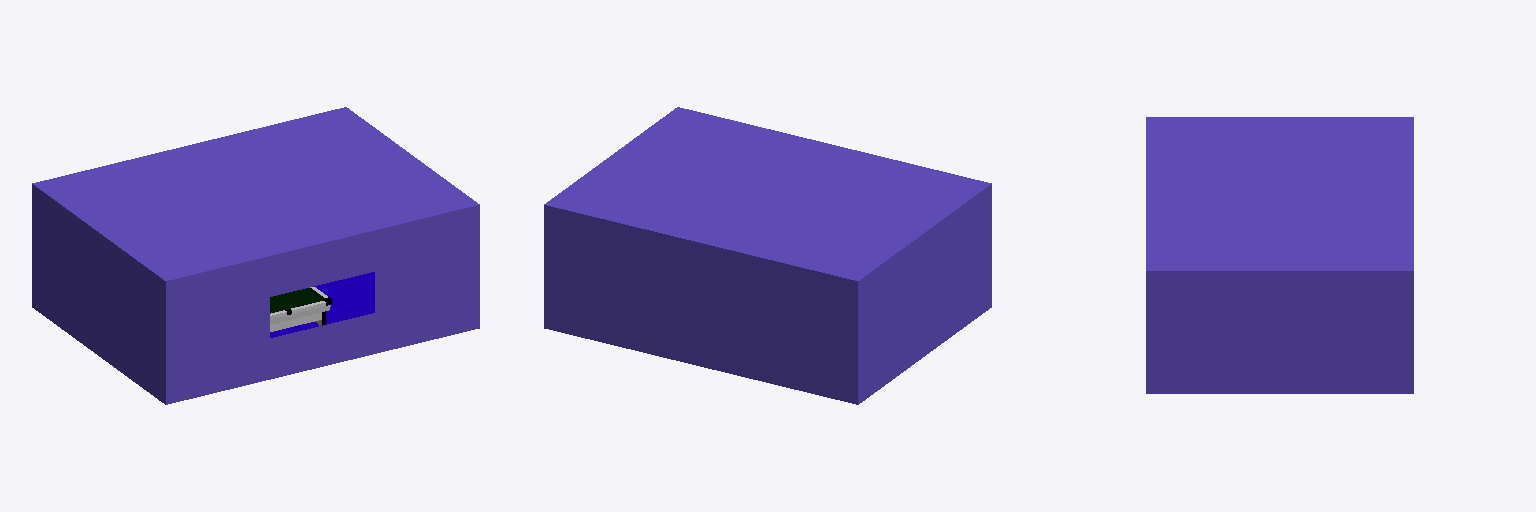
File: testPoolRoom.obj
The picture shows the model from 3 angles: view 1: azimuth 30°, elevation 25°; view 2: azimuth 150°, elevation 25°; view 3: azimuth 270°, elevation 25°; orthographic projection.
Visible parts, largest first — view 1: Cube, Plane.001; view 2: Cube; view 3: Cube.
Boxes of the visible parts, <box> form: Cube: <box>32,107,479,404</box>; Plane.001: <box>270,287,331,331</box>; Cube: <box>544,107,991,404</box>; Cube: <box>1146,117,1413,393</box>.
Size of the model in its own units: 10.11 by 3.8 by 7.45.